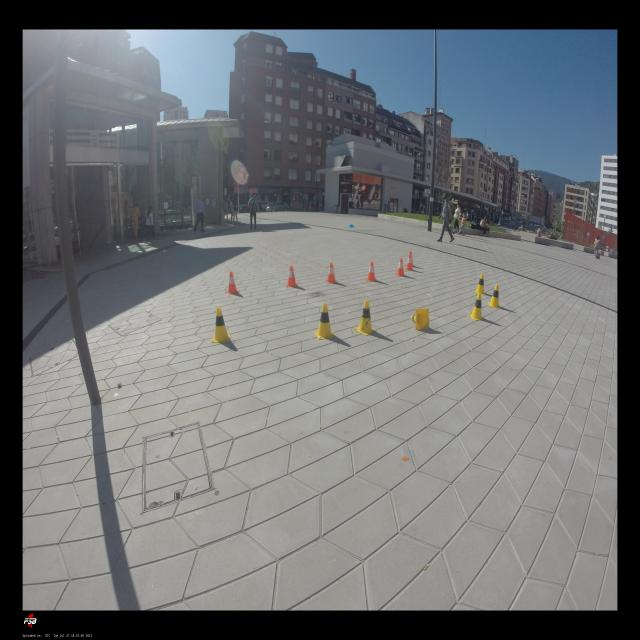orange_cone: (225, 271, 240, 294), (286, 265, 298, 287), (326, 262, 337, 283), (366, 261, 377, 281), (396, 258, 406, 277), (406, 254, 414, 271), (406, 251, 414, 266)
yellow_cone: (314, 303, 336, 339), (355, 300, 376, 335), (212, 307, 231, 343), (468, 293, 485, 321), (411, 308, 430, 330), (487, 284, 502, 309), (474, 273, 487, 295)
